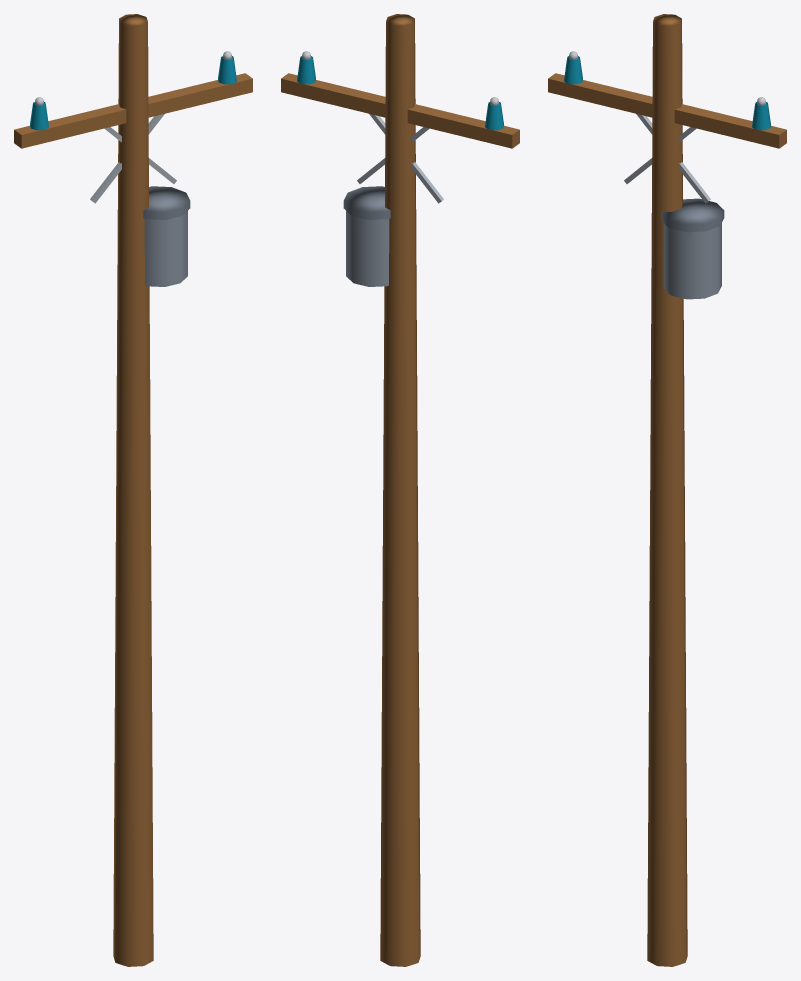
The model's file is power-pole.glb.
3 views of the same model, side by side, from view 1: azimuth 30°, elevation 25°; view 2: azimuth 150°, elevation 25°; view 3: azimuth 330°, elevation 25° (orthographic).
Visible parts, largest first — view 1: Root; view 2: Root; view 3: Root.
Part boxes in pixels (x1,y1,x2,y2): Root: (14, 14, 252, 966); Root: (281, 14, 519, 966); Root: (548, 14, 786, 966).
Bounding box in the file's own units: 3.2 × 12.4 × 0.7228.
